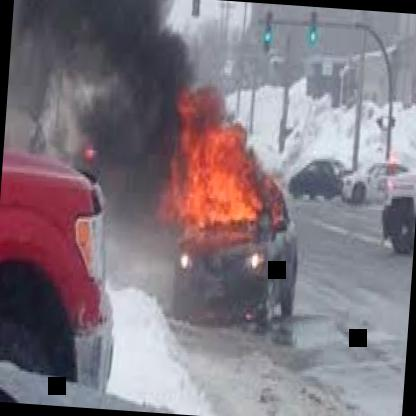fire: (137, 72, 321, 374)
